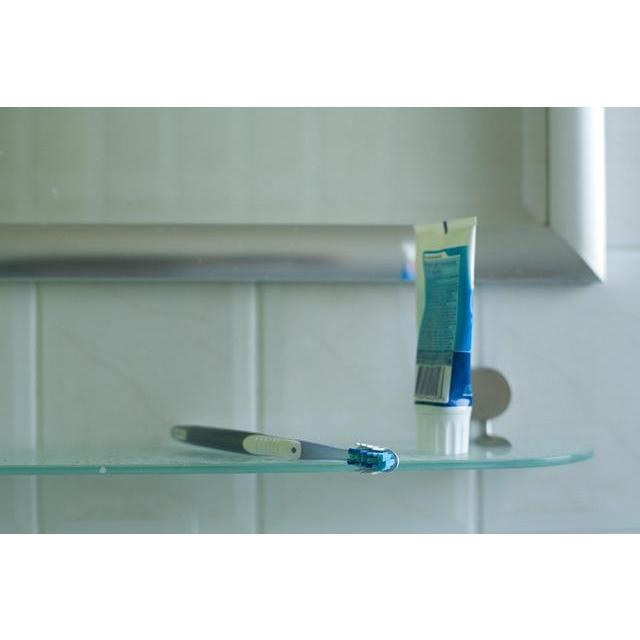toothbrush: (169, 424, 399, 474)
